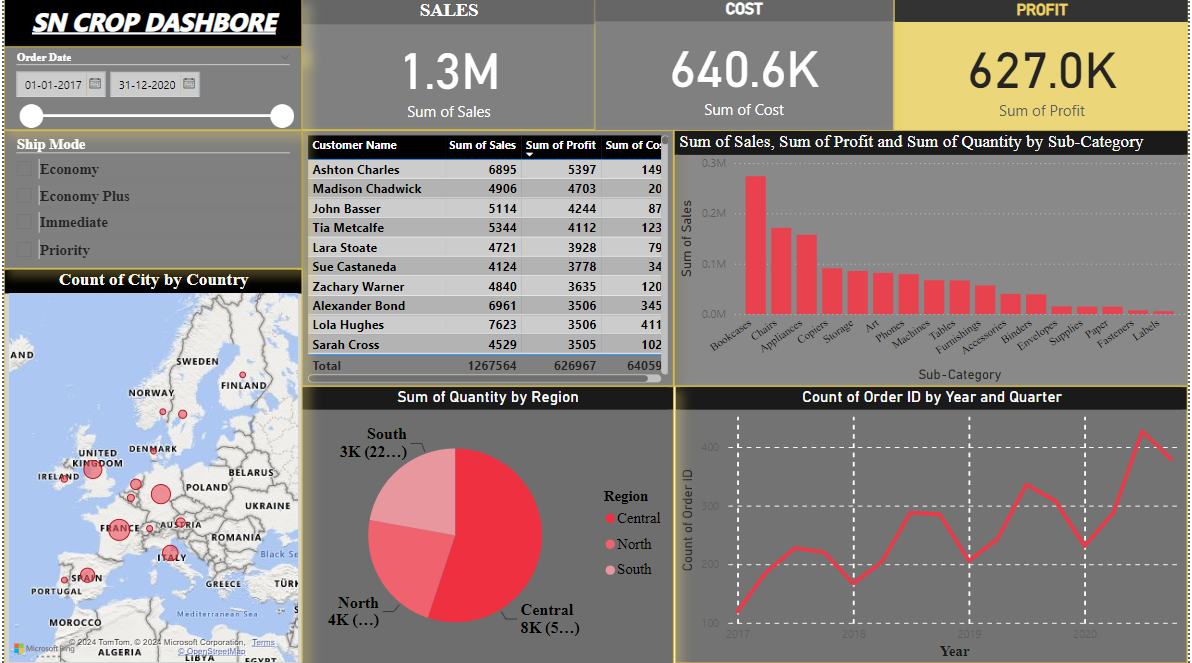

This screenshot's page, from the dashboard's own definition file:
{"tool":"powerbi","page":{"name":"Page 1","canvas":[1280,720],"ordinal":0},"visuals":[{"type":"card","title":"SALES","fields":{"Values":["List of Orders.Sales"]},"box":[321.6,0,317.6,141.9],"z":0},{"type":"card","title":"COST","fields":{"Values":["List of Orders.Cost"]},"box":[639.5,0,322.1,142.1],"z":1000},{"type":"card","title":"PROFIT","fields":{"Values":["List of Orders.Profit"]},"box":[961.7,0,318.6,142.1],"z":2000},{"type":"tableEx","fields":{"Values":["List of Orders.Customer Name","List of Orders.Sales","List of Orders.Profit","List of Orders.Cost"]},"box":[322.1,141.5,402.1,276.9],"z":3000},{"type":"clusteredColumnChart","fields":{"Y":["List of Orders.Sales"],"Category":["List of Orders.Sub-Category"]},"box":[724.1,141.5,555.9,276.9],"z":4000},{"type":"lineChart","fields":{"Y":["List of Orders.Order ID"],"Category":["List of Orders.Order Date.Variation.Date Hierarchy.Year","List of Orders.Order Date.Variation.Date Hierarchy.Quarter"]},"box":[726.2,418.5,553.8,299.5],"z":5000},{"type":"pieChart","fields":{"Y":["List of Orders.Quantity"],"Category":["List of Orders.Region"]},"box":[322.1,418.5,402.1,301.5],"z":6000},{"type":"map","fields":{"Category":["List of Orders.Country"],"Size":["List of Orders.City"]},"box":[0,291.3,322.1,428.7],"z":7000},{"type":"slicer","fields":{"Values":["List of Orders.Ship Mode"]},"box":[0,142.5,322.2,149.2],"z":8000},{"type":"textbox","box":[0,0,322.2,64.4],"z":9000},{"type":"slicer","fields":{"Values":["List of Orders.Order Date"]},"box":[0,52,322.2,90.5],"z":10000}]}

Visuals, with their boxes in screenshot pixels (x1, y1, x2, y2), scaled from the page's 1280x720 canvas onto the 1192x663 screenshot:
"SALES" card: bbox=[299, 0, 595, 131]
"COST" card: bbox=[596, 0, 895, 131]
"PROFIT" card: bbox=[896, 0, 1191, 131]
tableEx - List of Orders.Customer Name x List of Orders.Sales: bbox=[300, 130, 674, 385]
clusteredColumnChart - List of Orders.Sales x List of Orders.Sub-Category: bbox=[674, 130, 1191, 385]
lineChart - List of Orders.Order ID x List of Orders.Order Date.Variation.Date Hierarchy.Year: bbox=[676, 385, 1191, 661]
pieChart - List of Orders.Quantity x List of Orders.Region: bbox=[300, 385, 674, 662]
map - List of Orders.Country x List of Orders.City: bbox=[0, 268, 300, 662]
slicer - List of Orders.Ship Mode: bbox=[0, 131, 300, 269]
textbox: bbox=[0, 0, 300, 59]
slicer - List of Orders.Order Date: bbox=[0, 48, 300, 131]
